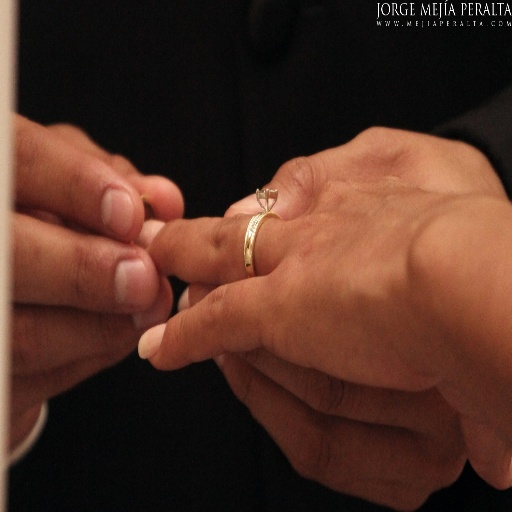hand: (177, 124, 508, 511), (132, 178, 491, 393), (0, 103, 184, 446)
